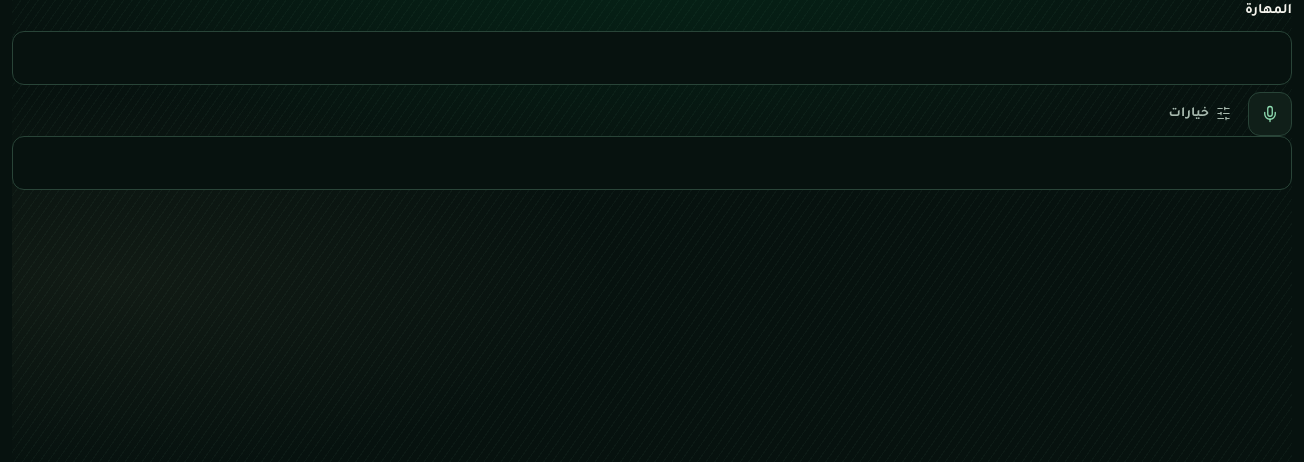
Test: shared mobile dictated fields — local DOM only › offers explicit language/manual timing, stops when requested, and never submits its surrounding form
Earlier steps of the test are not shown.
Step 1. Click the button with class "dictation-button" → click(1270, 114), box [1248, 92, 1292, 136]
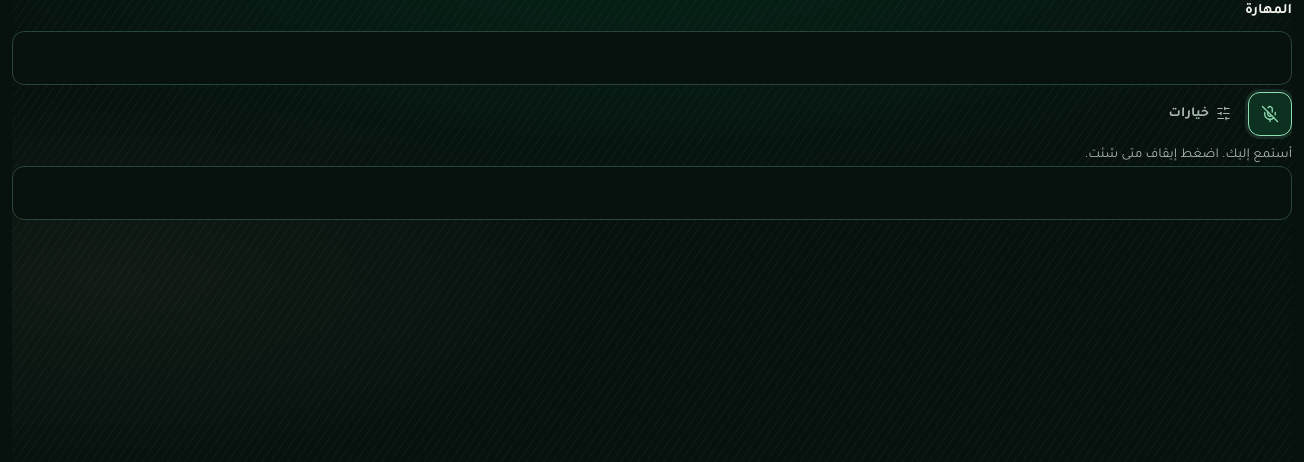
Now the button with class "dictation-button" is pressed
Step 2. Click the button with class "dictation-button" → click(1270, 114), box [1248, 92, 1292, 136]
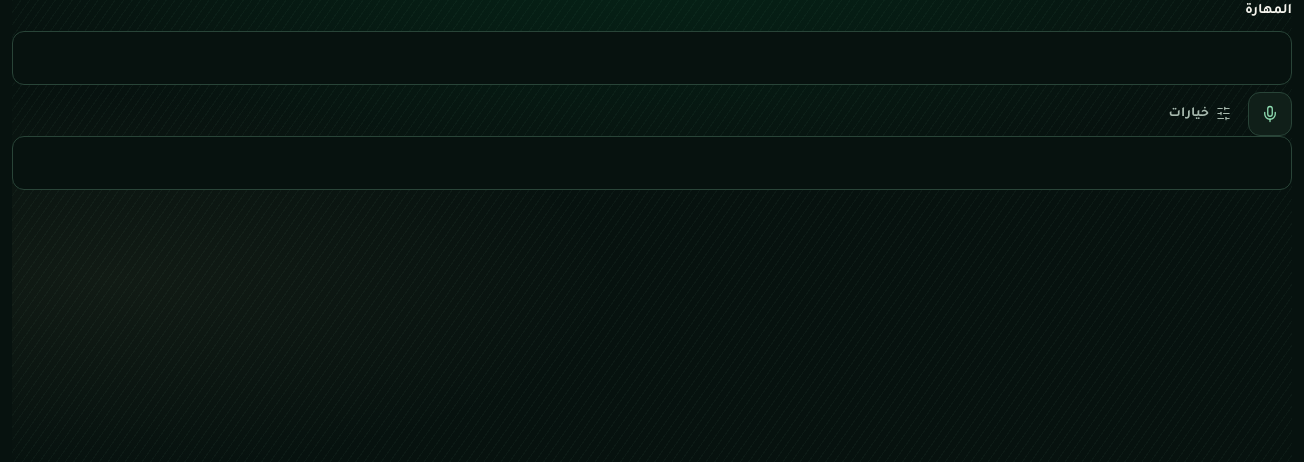
Now the button with class "dictation-button" is not pressed, box [1248, 92, 1292, 136]
